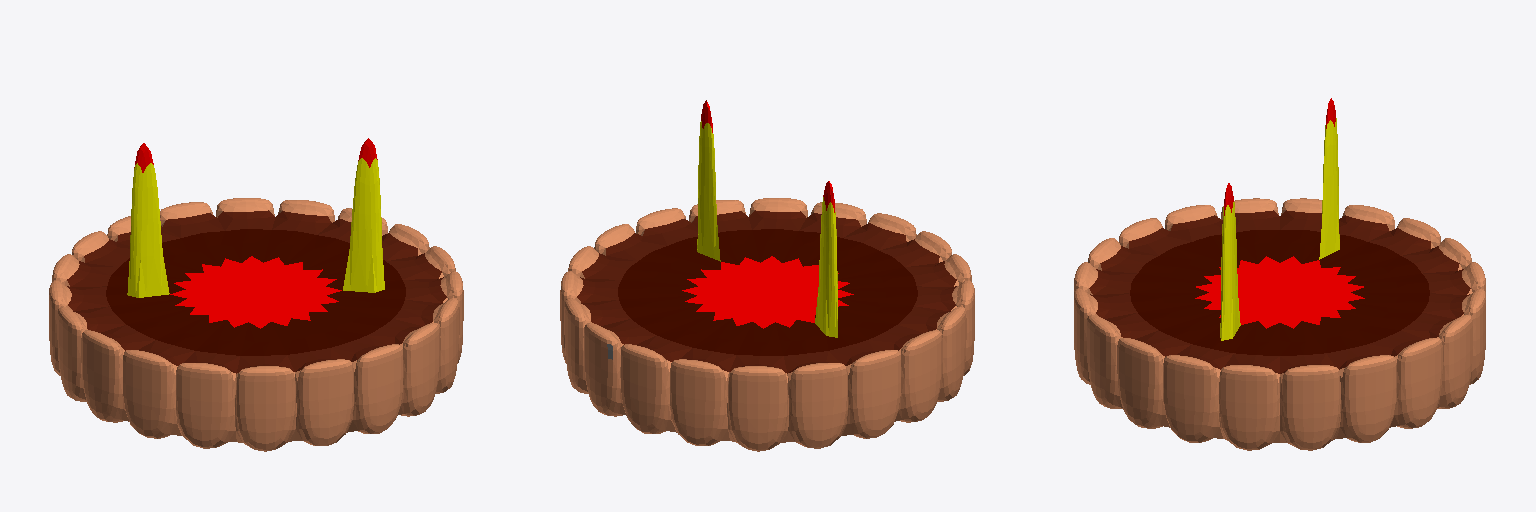
File: cake.obj
3 renders of one model, left to right at view 1: azimuth 30°, elevation 25°; view 2: azimuth 150°, elevation 25°; view 3: azimuth 270°, elevation 25°, orthographic.
Parts seen in each view (by area): view 1: pCylinder1; view 2: pCylinder1; view 3: pCylinder1.
Boxes of the visible parts, x1,y1,x2,y2 form: pCylinder1: [49, 138, 463, 451]; pCylinder1: [560, 100, 974, 451]; pCylinder1: [1074, 98, 1485, 450].
Size of the model in its own units: 7.33 by 4.55 by 7.34.